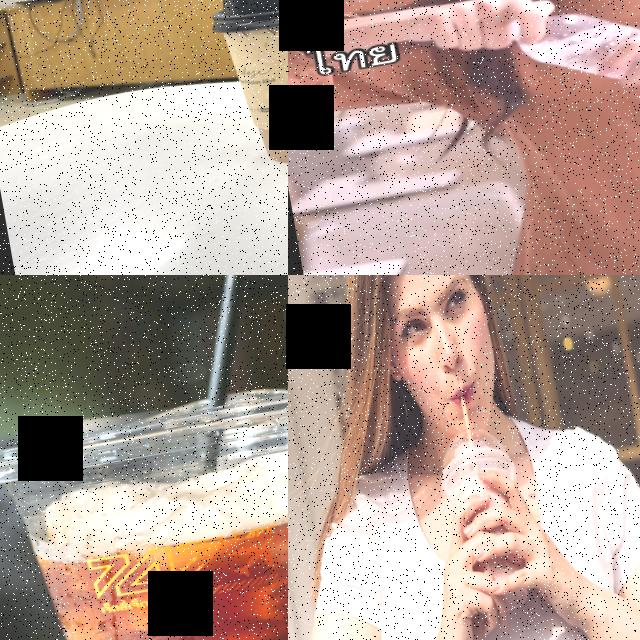bottle: (512, 0, 640, 137)
cup: (0, 367, 288, 640), (432, 418, 542, 620), (204, 0, 288, 177)
